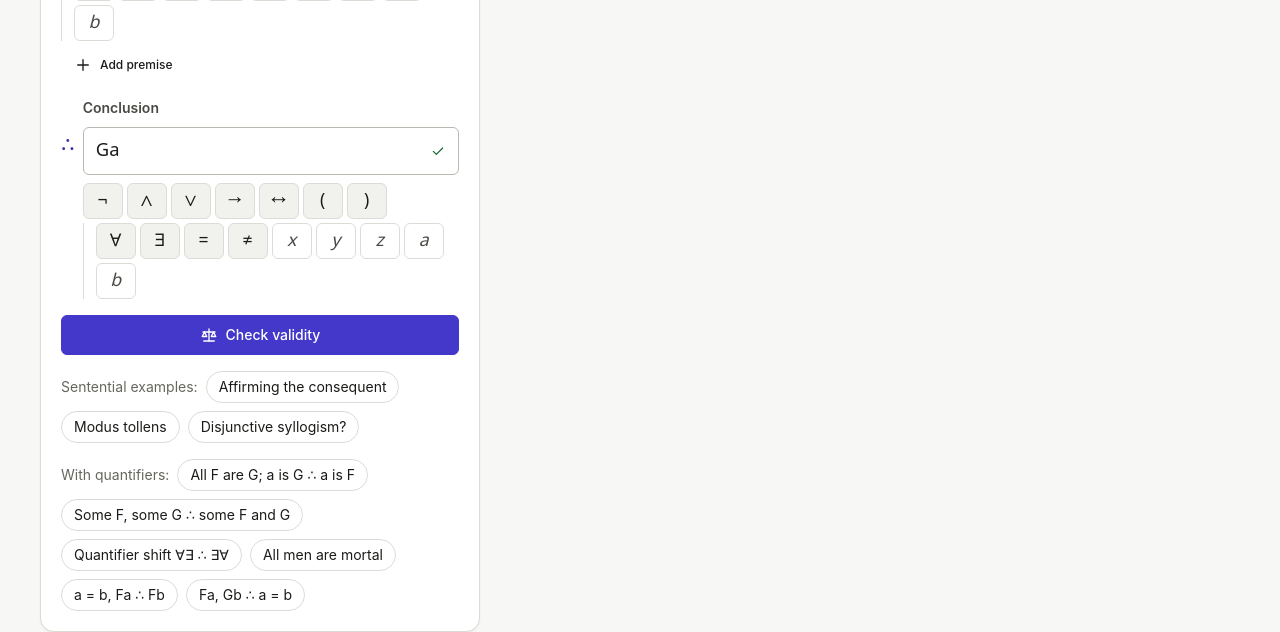
it: arity message names the visible premise
The width and height of the screenshot is (1280, 632).
(page scrolled)
What coordinates should you click on to do the following:
click the button "Check validity"
I would click on:
 (260, 334)
Its box is [61,314,459,354].
(page scrolled)
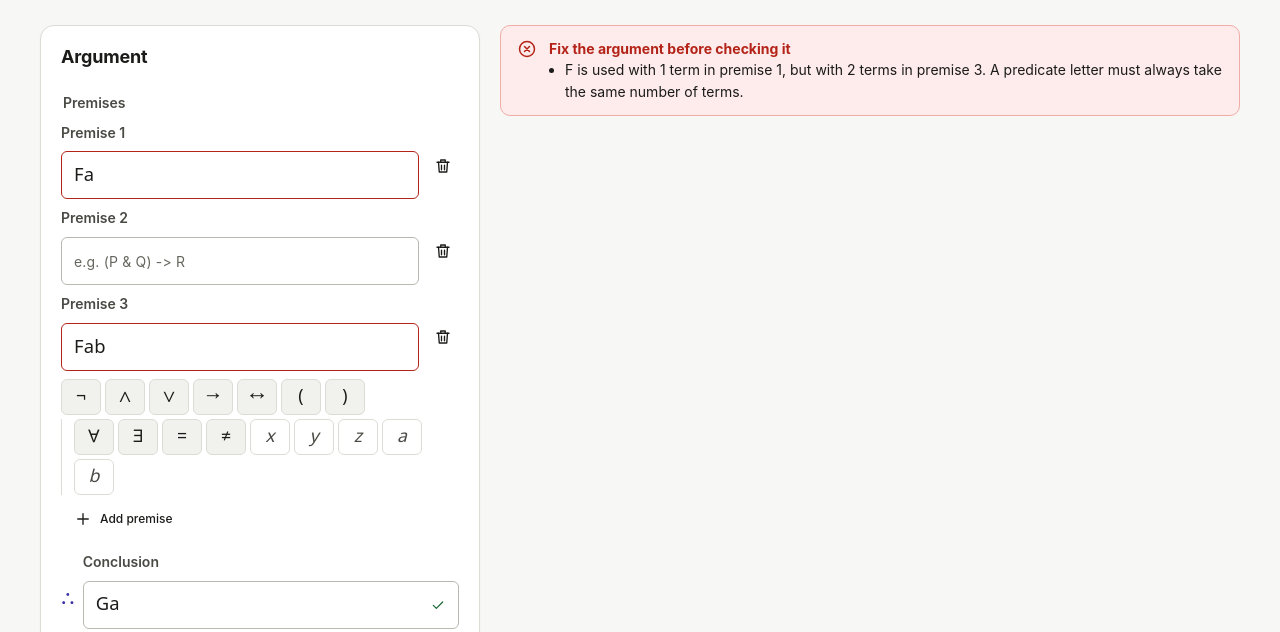
Check: the element named "Verdict" does not show "premise 2", box [500,25,1240,116]
Check: the element named "Verdict" shows "premise 3", box [565,61,1222,100]
